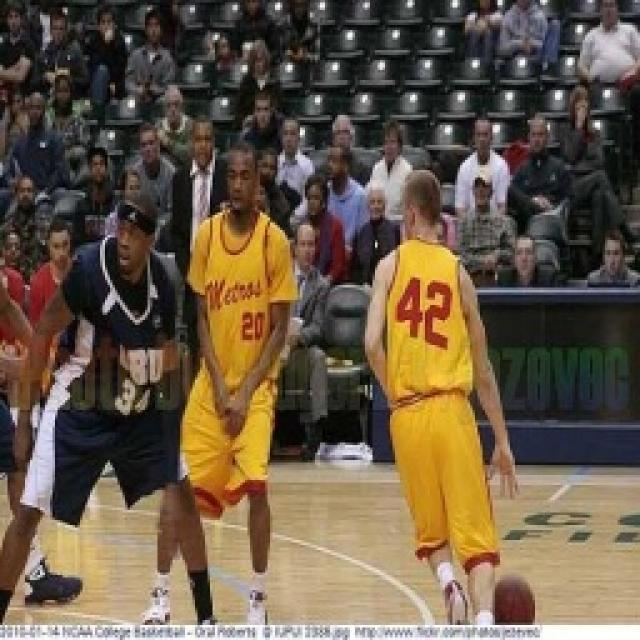rim: (483, 564, 539, 626)
